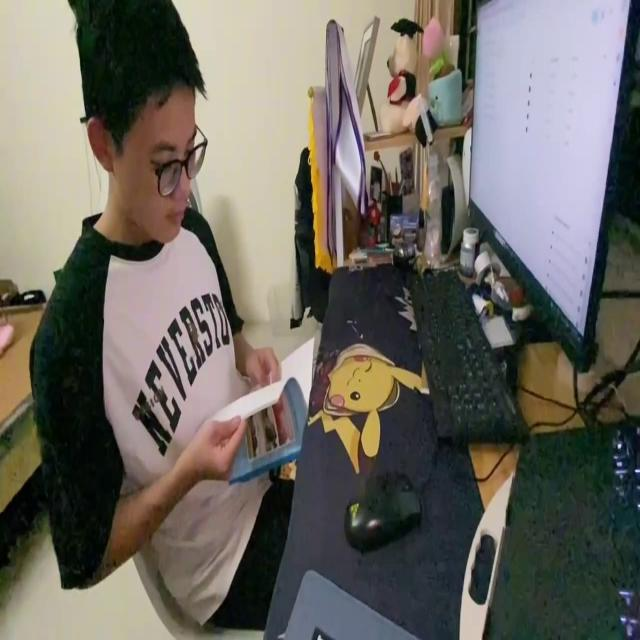book: (207, 329, 317, 486)
laptop: (467, 0, 640, 379)
student: (28, 2, 296, 628)
